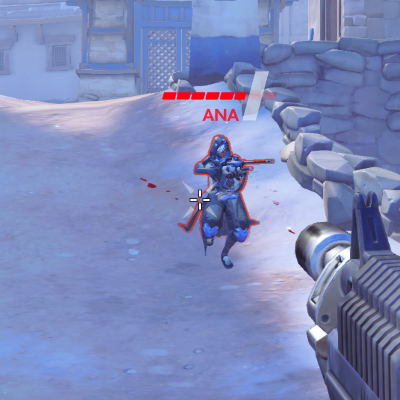hpbar: (162, 91, 278, 101)
